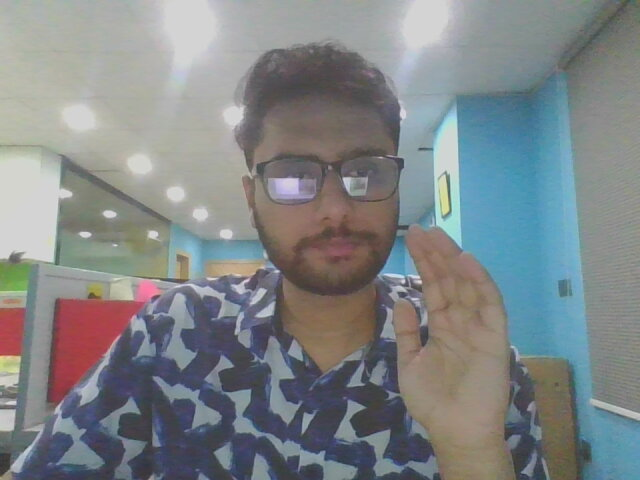hello: (376, 216, 549, 456)
